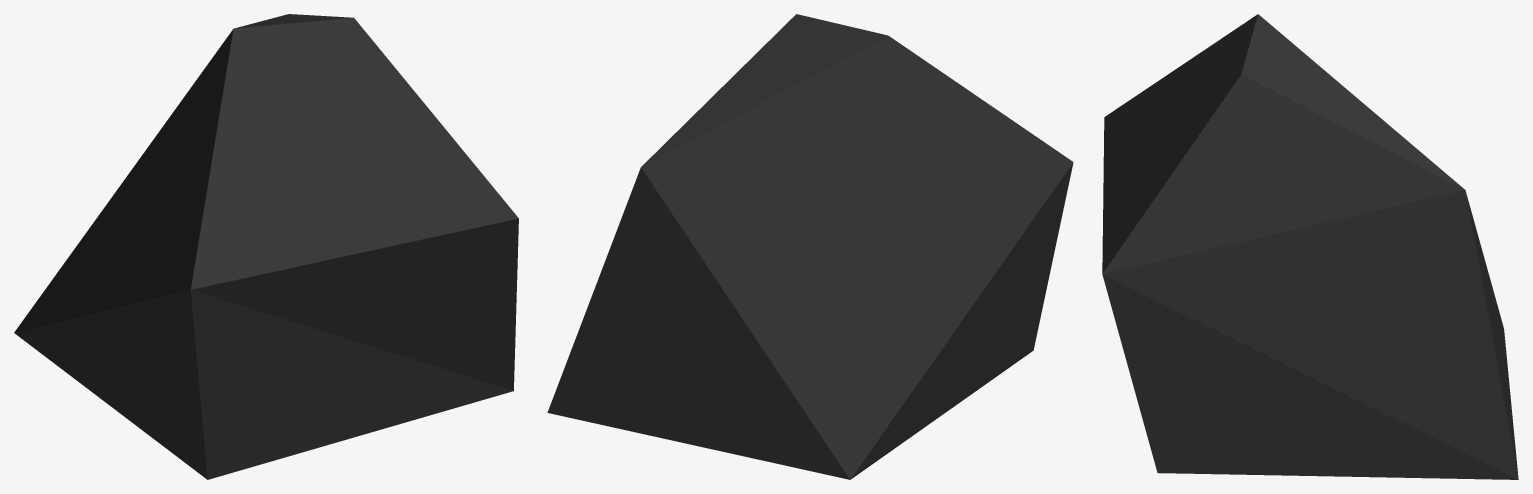
Rendered from CoalA.fbx.
3 renders of one model, left to right at view 1: azimuth 30°, elevation 25°; view 2: azimuth 150°, elevation 25°; view 3: azimuth 270°, elevation 25°, orthographic. The views are drawn at different scales.
Visible parts, largest first — view 1: CoalA; view 2: CoalA; view 3: CoalA.
Part boxes in pixels (x1,y1,x2,y2): CoalA: (14, 14, 518, 479); CoalA: (547, 14, 1073, 479); CoalA: (1102, 14, 1518, 479).
Size of the model in its own units: 32.52 by 32.09 by 34.08.
